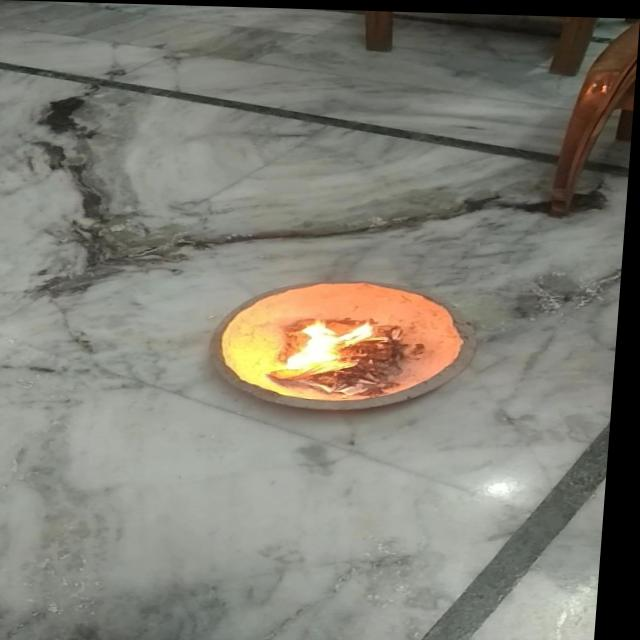fire: (281, 307, 390, 382)
